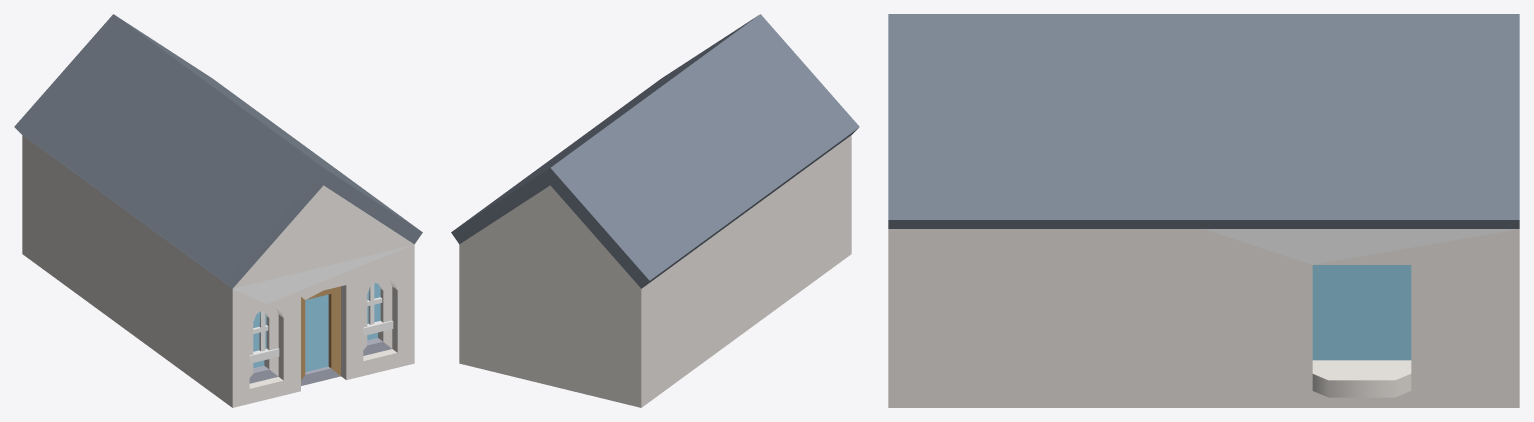
The model's file is v7-hus-modular-tre-fonster-kenney.glb.
3 views of the same model, side by side, from view 1: azimuth 30°, elevation 25°; view 2: azimuth 150°, elevation 25°; view 3: azimuth 270°, elevation 25° (orthographic). The views are drawn at different scales.
Parts seen in each view (by area): view 1: House, Window_1, Window_3; view 2: House; view 3: House.
Part boxes in pixels (x1,y1,x2,y2): House: (14, 14, 422, 407); Window_1: (249, 311, 279, 363); Window_3: (363, 283, 393, 335); House: (451, 14, 859, 407); House: (888, 14, 1519, 407).
Bounding box in the file's own units: 1.1 × 1.14 × 2.
